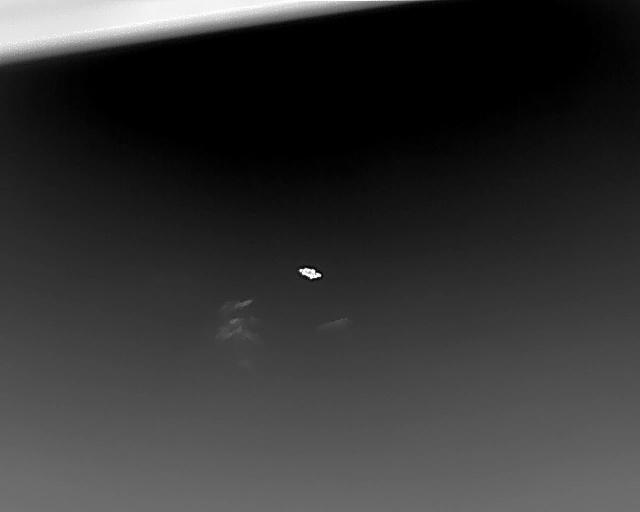fpv-drone: (298, 266, 322, 280)
